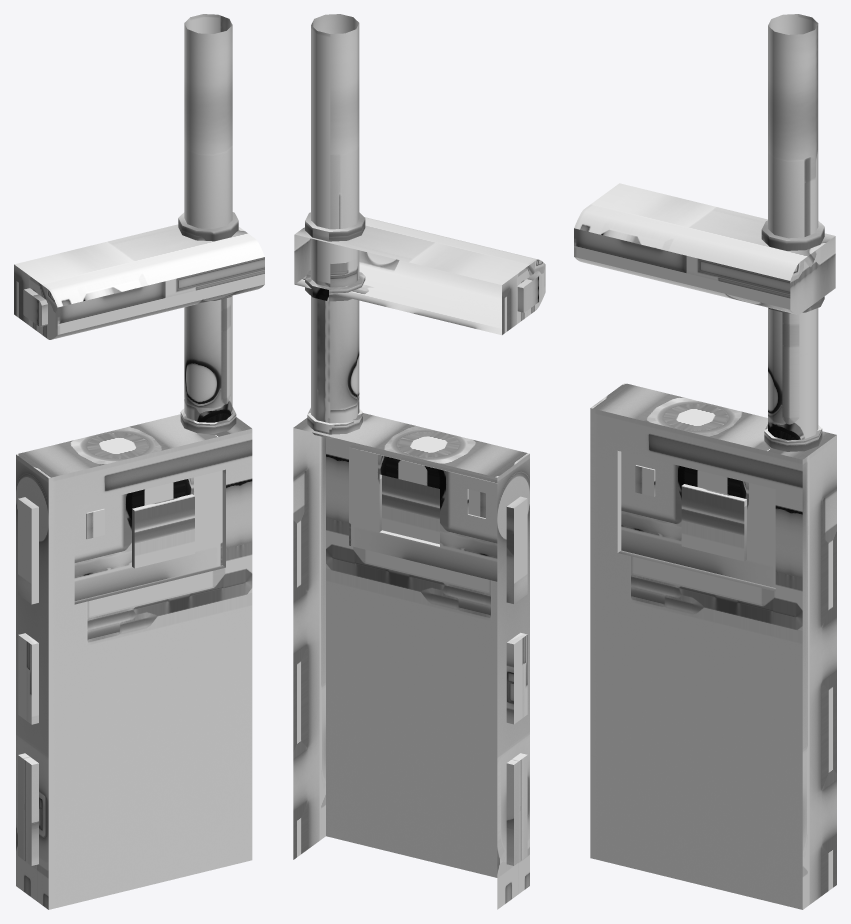
File: bokbigbox_low.fbx
The picture shows the model from 3 angles, left to right: view 1: azimuth 30°, elevation 25°; view 2: azimuth 150°, elevation 25°; view 3: azimuth 330°, elevation 25°; orthographic projection. The views are drawn at different scales.
Visible parts, largest first — view 1: 1bok_big_box_low, 3low_bok_big_low, 2bok_big_box_low; view 2: 1bok_big_box_low, 2bok_big_box_low, 3low_bok_big_low; view 3: 1bok_big_box_low, 3low_bok_big_low, 2bok_big_box_low.
Part boxes in pixels (<box>): 1bok_big_box_low: <box>16,414,252,909</box>; 3low_bok_big_low: <box>14,224,264,339</box>; 2bok_big_box_low: <box>178,14,238,433</box>; 1bok_big_box_low: <box>293,413,529,909</box>; 2bok_big_box_low: <box>305,14,365,438</box>; 3low_bok_big_low: <box>294,217,545,335</box>; 1bok_big_box_low: <box>590,383,836,909</box>; 3low_bok_big_low: <box>574,183,835,314</box>; 2bok_big_box_low: <box>761,14,824,451</box>.
Size of the model in its own units: 110 by 301 by 1119.
